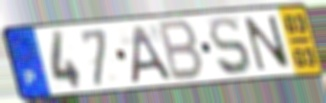4: (48, 28, 84, 92)
7: (79, 27, 109, 88)
A: (129, 23, 174, 85)
B: (156, 18, 205, 83)
N: (241, 14, 294, 73)
S: (207, 15, 254, 78)
